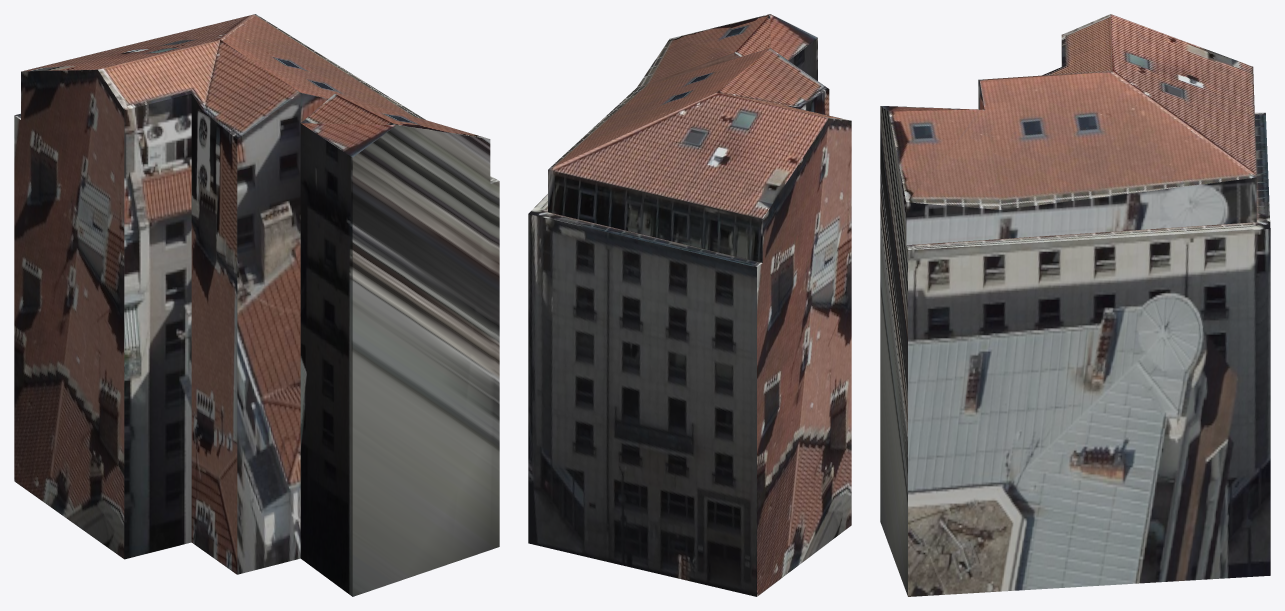
3 renders of one model, left to right at view 1: azimuth 30°, elevation 25°; view 2: azimuth 150°, elevation 25°; view 3: azimuth 270°, elevation 25°, orthographic. The views are drawn at different scales.
Parts seen in each view (by area): view 1: Z_UP; view 2: Z_UP; view 3: Z_UP.
Boxes of the visible parts, box(x1,y1,x2,y2) form: Z_UP: box(14, 14, 499, 596); Z_UP: box(528, 14, 851, 596); Z_UP: box(880, 14, 1270, 596).
Size of the model in its own units: 17.49 by 26.5 by 20.98.
Materials: 2 (1 with a texture image).
